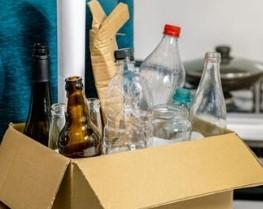glass: (103, 45, 150, 155), (137, 22, 186, 110), (59, 74, 103, 159), (189, 50, 227, 145), (22, 41, 55, 141), (150, 102, 192, 151)
